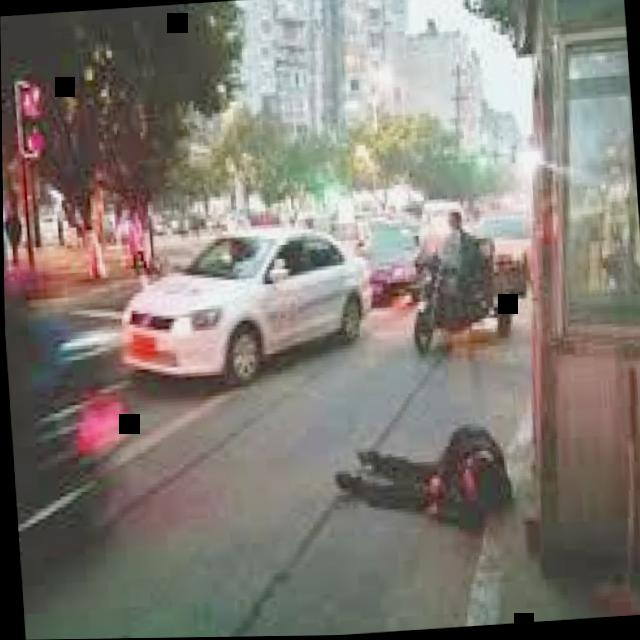Fall-Detected: (327, 397, 530, 529)
